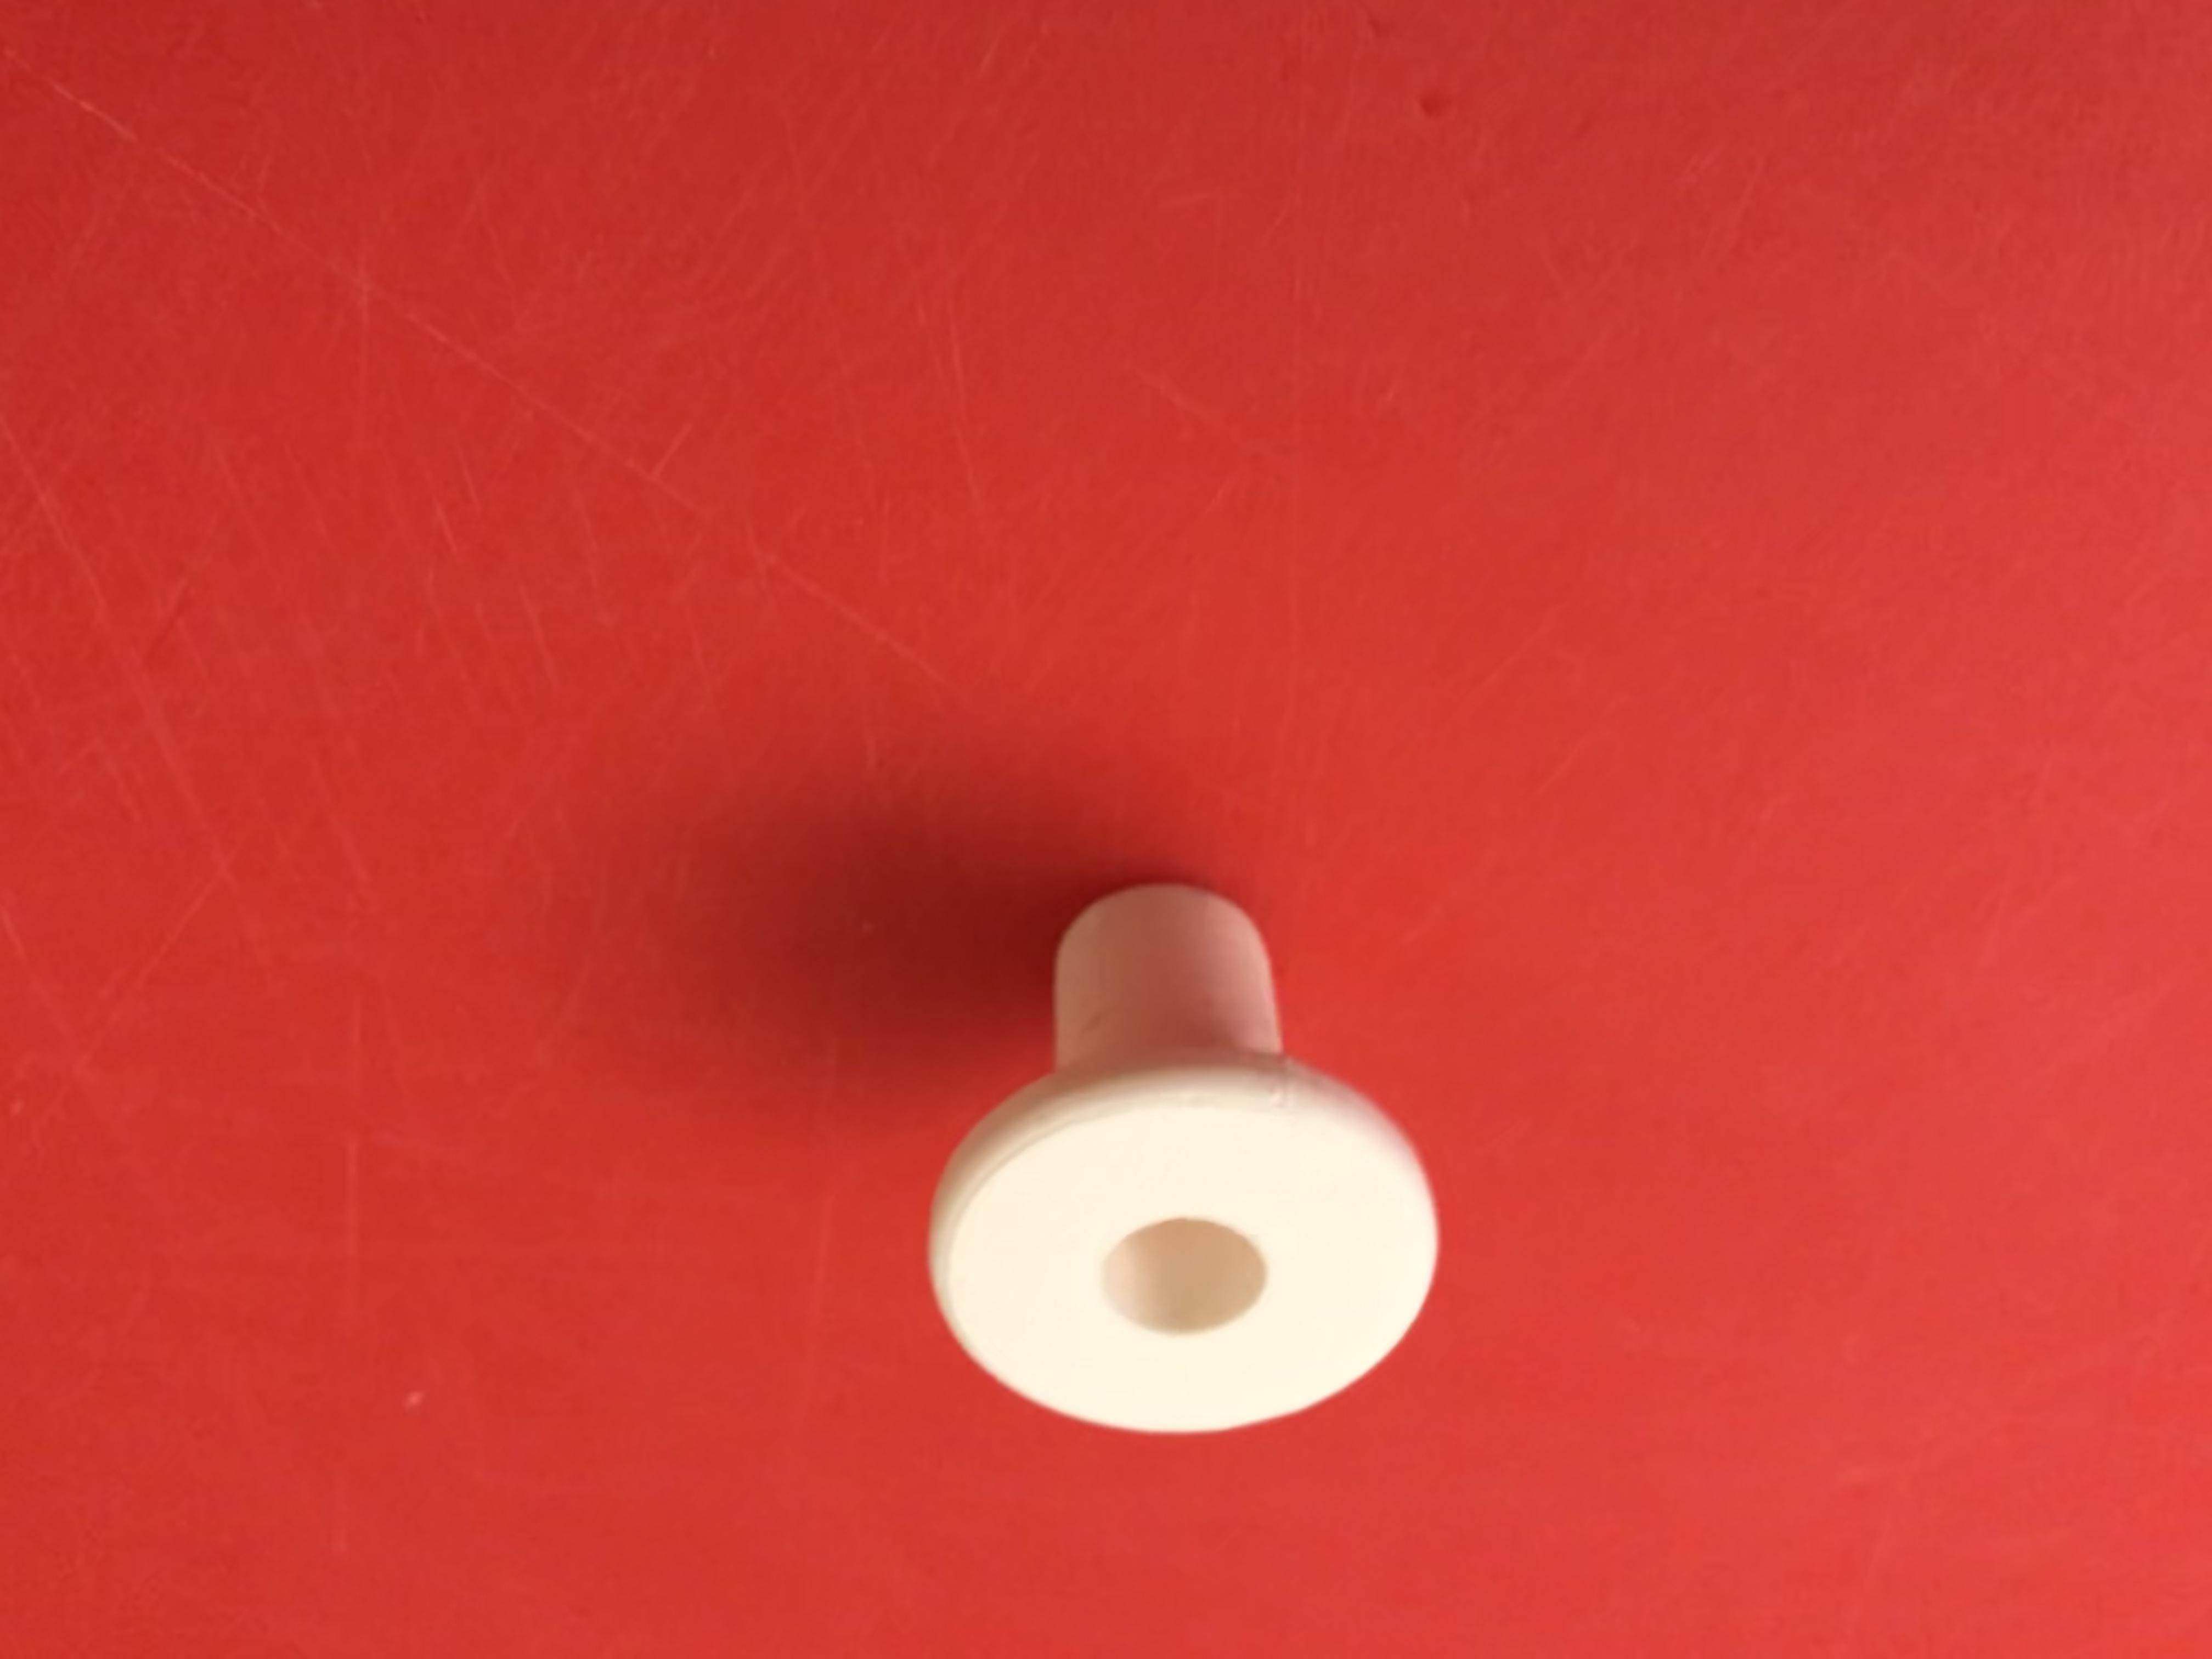White Cone: (914, 877, 1458, 1446)
